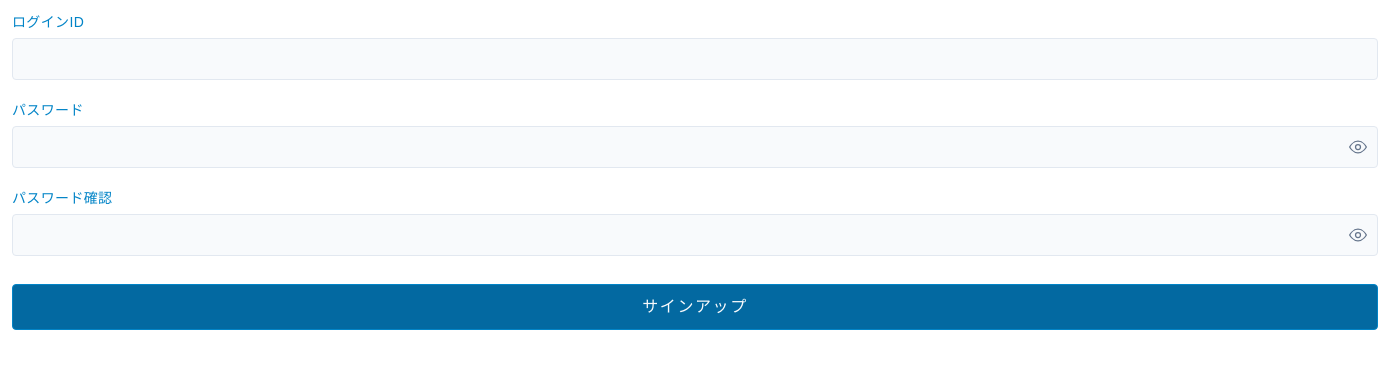
Test: SignupForm › パスワードとパスワード確認が不一致だとエラーを表示し、Server Actionを呼ばない
In the field labelled "ログインID": x=695, y=59 [12, 38, 1378, 80], type "taro"
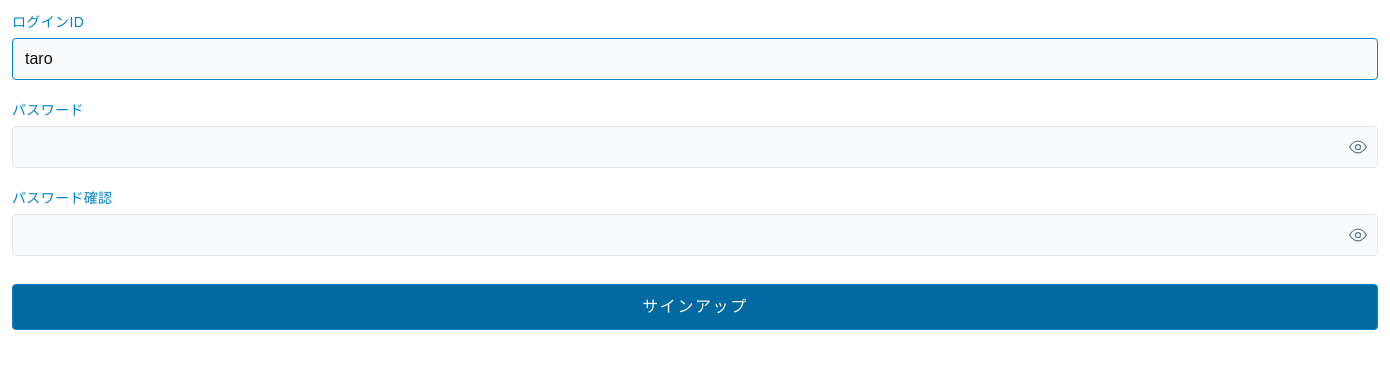
In the password field labelled "パスワード": x=695, y=147 [12, 126, 1378, 168], type "secret123"
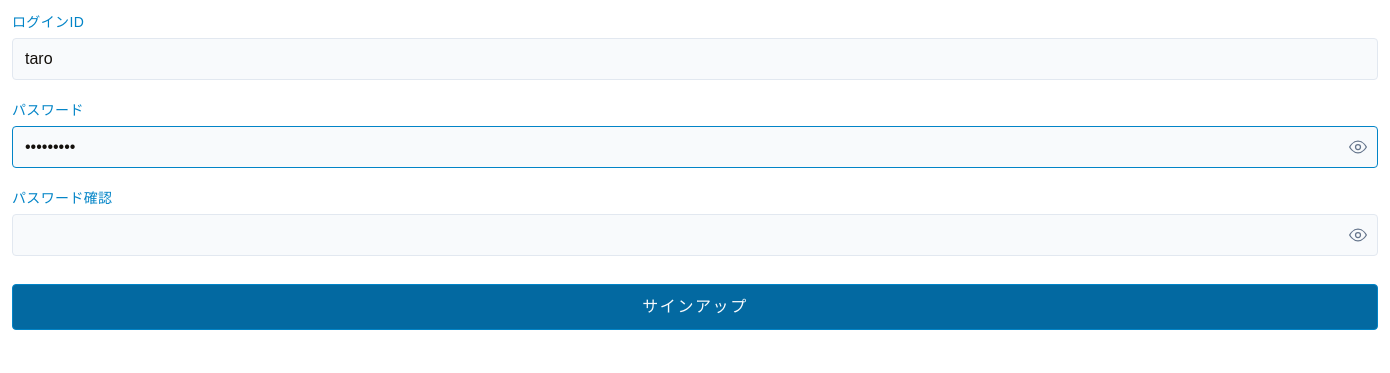
In the password field labelled "パスワード確認": x=695, y=235 [12, 214, 1378, 256], type "different"
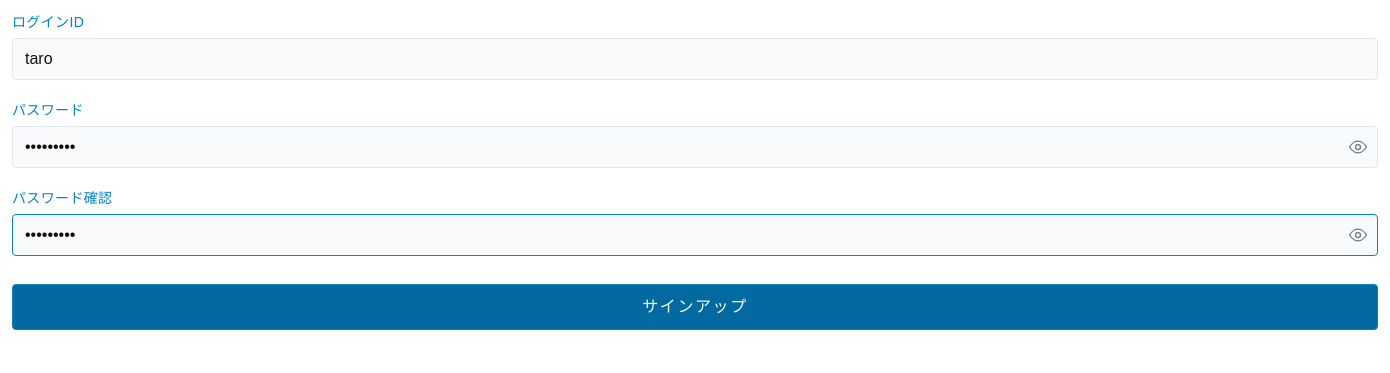
Click the button "サインアップ": x=695, y=307 [12, 284, 1378, 330]
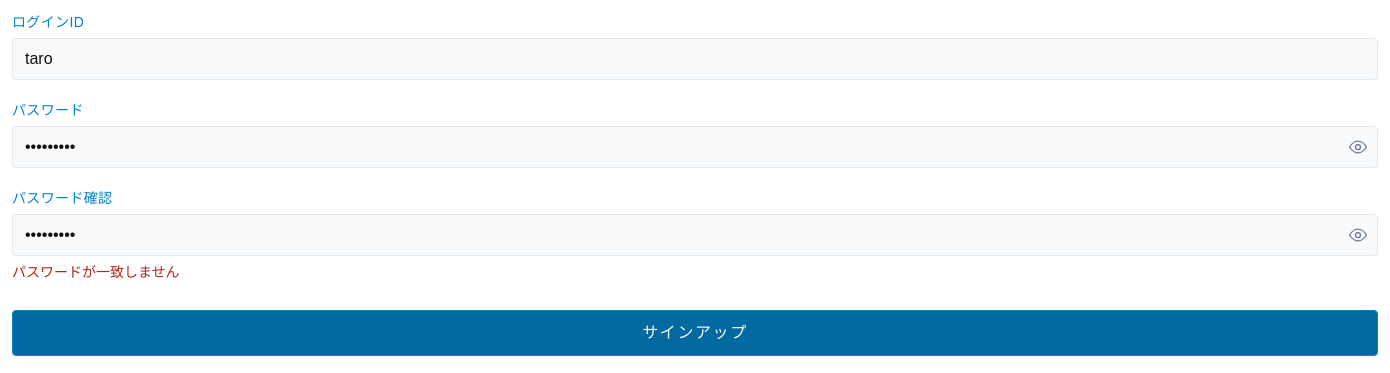
Now the text "パスワードが一致しません" is shown, box [12, 264, 180, 280]
